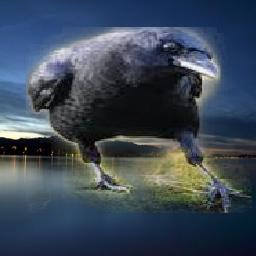Crow: (26, 27, 252, 213)
